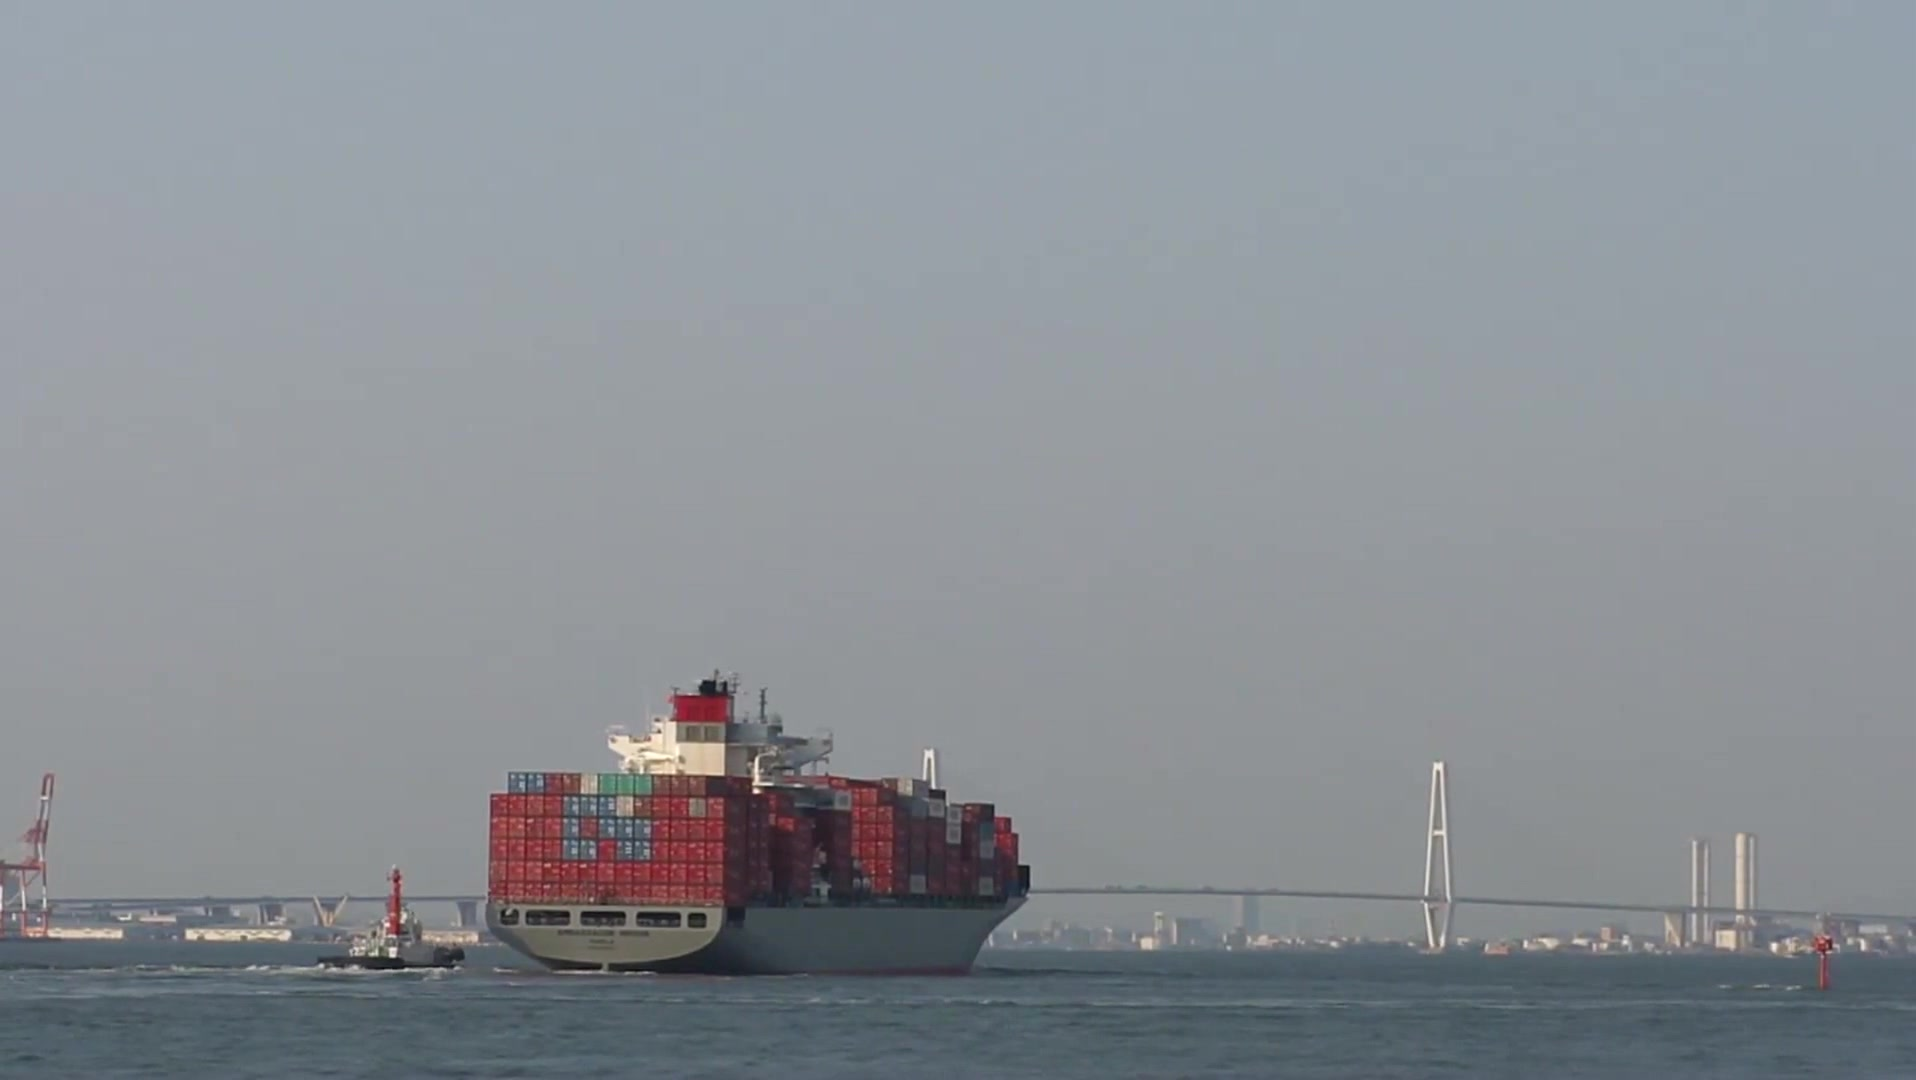boat: (479, 670, 1037, 983), (328, 870, 468, 980)
